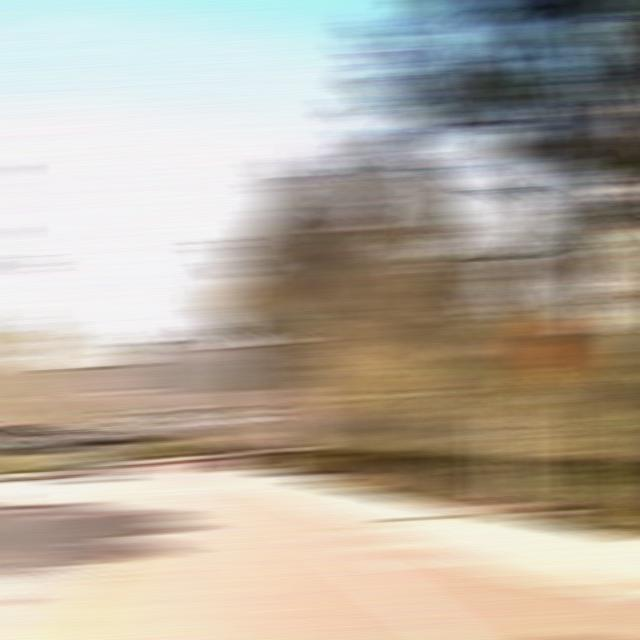stop: (300, 397, 342, 422)
